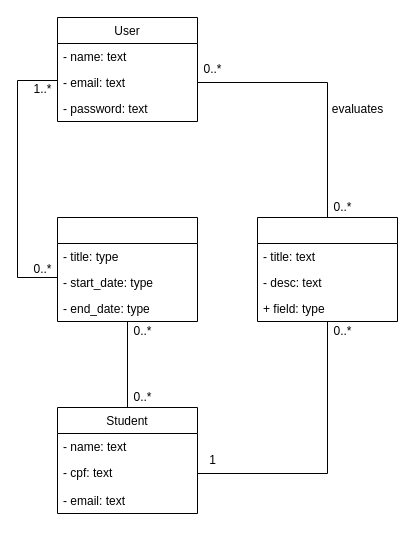
Some shapes in this 415 by 534 pixel diagram are drawn without their labels. The shapes that lost their labels are listed below. From the top down, each one's box as (x1, y1, x2, y2) in pixels, then its label:
(56, 216, 198, 322): Seminar
(256, 216, 398, 322): Evaluation
